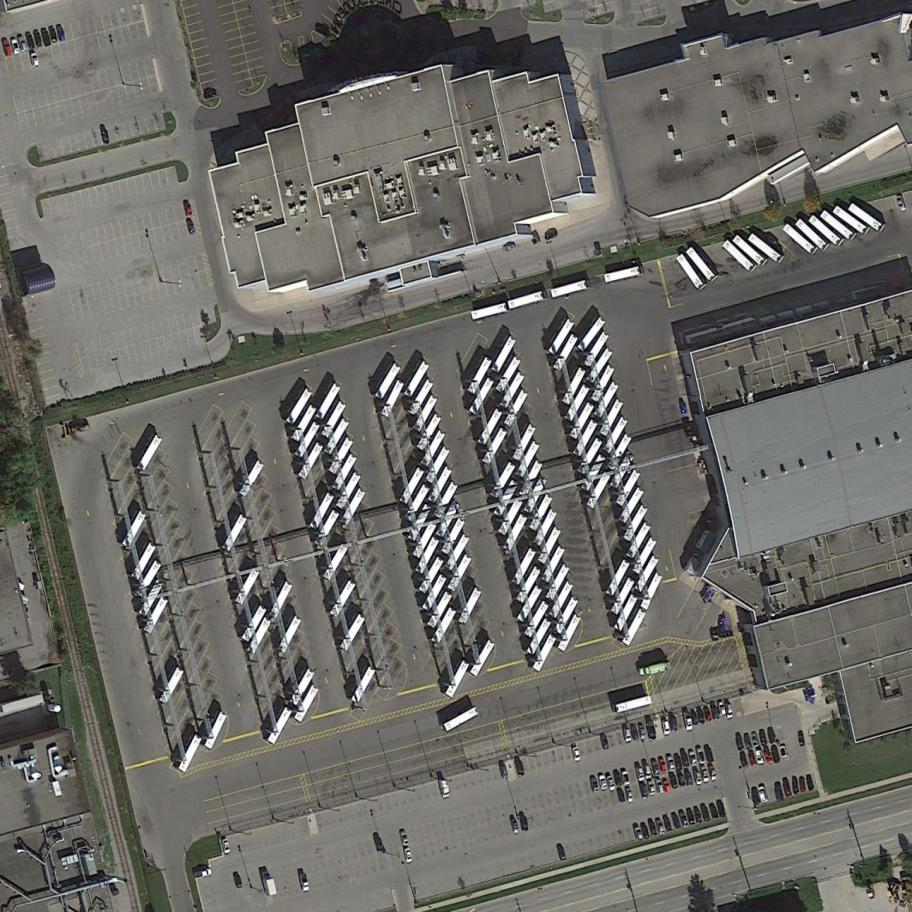large-vehicle: (684, 245, 718, 283), (746, 231, 784, 264), (616, 485, 646, 526), (722, 238, 757, 273), (807, 213, 843, 247), (731, 233, 767, 267), (575, 316, 608, 353), (847, 202, 886, 233), (334, 471, 364, 511), (531, 507, 560, 548), (297, 440, 326, 481), (819, 209, 856, 241), (585, 346, 615, 385), (522, 599, 552, 638), (237, 460, 267, 499), (494, 356, 524, 395), (275, 615, 304, 655), (584, 470, 613, 510), (135, 559, 164, 599), (221, 513, 250, 553), (407, 378, 436, 418), (411, 394, 440, 434), (417, 556, 446, 596), (416, 413, 445, 453), (620, 608, 649, 648), (794, 218, 829, 251), (782, 222, 817, 255), (411, 520, 439, 561), (675, 254, 706, 291), (832, 205, 870, 235), (426, 590, 455, 629), (593, 381, 622, 420), (350, 665, 379, 704), (288, 667, 317, 706), (339, 613, 368, 652), (515, 585, 544, 624), (631, 536, 660, 575), (510, 548, 539, 587), (576, 437, 605, 476), (323, 417, 352, 456), (398, 467, 427, 506), (515, 439, 543, 479), (545, 562, 573, 602), (625, 521, 653, 561), (320, 400, 348, 440), (294, 420, 322, 460), (130, 542, 158, 582), (424, 445, 452, 485), (308, 491, 336, 531), (477, 407, 505, 447), (457, 586, 484, 627), (380, 378, 407, 419), (493, 479, 520, 520), (583, 330, 612, 368), (547, 318, 576, 356), (498, 371, 527, 409), (621, 504, 650, 542), (285, 389, 314, 427), (468, 378, 497, 416), (553, 333, 581, 372), (442, 706, 481, 734), (266, 706, 294, 745), (293, 685, 321, 724), (431, 606, 459, 645), (572, 419, 600, 458), (634, 554, 662, 593), (515, 565, 543, 604), (615, 468, 643, 507), (605, 433, 633, 472), (422, 573, 450, 612), (447, 554, 475, 593), (403, 360, 431, 399), (375, 362, 403, 401), (327, 437, 355, 476), (291, 404, 319, 443), (241, 603, 269, 642), (138, 579, 166, 618), (313, 509, 341, 548), (497, 498, 525, 537), (329, 579, 357, 618), (322, 543, 350, 582), (404, 483, 432, 522), (340, 487, 368, 526), (561, 366, 588, 406), (548, 580, 575, 620), (605, 558, 632, 598), (541, 544, 568, 584), (536, 526, 563, 566), (528, 493, 555, 533), (502, 513, 529, 553), (467, 356, 494, 396), (177, 734, 204, 774), (440, 516, 467, 556), (613, 593, 640, 633), (204, 710, 230, 751), (331, 454, 359, 492), (143, 596, 171, 634), (444, 534, 472, 572), (489, 461, 517, 499), (136, 434, 164, 472), (569, 401, 596, 440), (565, 384, 592, 423), (610, 577, 637, 616), (518, 460, 545, 499), (491, 335, 518, 374), (433, 481, 460, 520), (553, 596, 580, 635), (590, 364, 616, 404), (247, 617, 273, 657), (503, 389, 530, 427), (469, 639, 496, 677), (609, 451, 636, 489), (581, 454, 608, 492), (158, 667, 185, 705), (234, 568, 261, 606), (420, 430, 447, 468), (531, 634, 558, 672), (512, 423, 538, 462), (445, 659, 471, 698), (599, 398, 625, 437), (523, 476, 549, 515), (122, 510, 148, 549), (415, 536, 441, 575), (268, 581, 294, 620), (557, 613, 583, 652), (408, 503, 433, 543), (603, 416, 629, 454), (526, 618, 552, 656), (316, 382, 342, 420), (428, 467, 454, 505), (483, 427, 509, 465), (640, 572, 664, 610), (612, 693, 655, 714), (435, 504, 460, 538), (551, 279, 590, 300), (507, 290, 545, 310), (471, 302, 508, 322), (604, 265, 644, 283)
small-vehicle: (683, 551, 704, 578), (260, 869, 279, 898), (39, 26, 54, 49), (373, 830, 387, 854), (191, 866, 213, 881), (1, 37, 15, 60), (299, 870, 312, 894), (438, 777, 451, 800), (699, 800, 712, 823), (8, 36, 22, 57), (498, 759, 511, 781), (781, 777, 793, 800), (683, 708, 694, 733), (17, 34, 30, 54), (762, 746, 775, 766), (678, 809, 690, 830), (514, 755, 526, 776), (707, 761, 719, 782), (55, 23, 67, 44), (639, 822, 652, 841), (510, 813, 521, 835), (696, 704, 707, 726), (647, 719, 658, 741), (773, 781, 784, 803), (25, 31, 37, 51), (757, 785, 769, 805), (896, 194, 908, 213), (620, 769, 632, 788), (605, 774, 617, 793), (183, 200, 195, 219), (32, 29, 44, 48), (29, 51, 42, 68), (613, 768, 624, 788), (637, 720, 648, 740), (48, 25, 59, 45), (692, 805, 703, 825), (750, 786, 761, 806), (400, 828, 411, 848), (668, 772, 680, 790), (670, 812, 682, 830), (695, 747, 707, 765), (704, 744, 715, 763), (639, 782, 650, 801), (557, 843, 568, 862), (600, 732, 611, 751), (685, 806, 696, 825), (716, 799, 727, 818), (747, 749, 758, 768), (770, 745, 781, 764), (629, 724, 641, 741), (711, 701, 721, 721), (725, 700, 735, 720), (735, 731, 745, 751), (655, 777, 666, 795), (648, 819, 659, 837), (700, 766, 711, 784), (233, 871, 244, 889), (708, 802, 719, 820), (757, 728, 768, 746), (805, 773, 816, 791), (543, 228, 559, 240), (185, 219, 197, 235), (636, 764, 646, 783), (690, 708, 700, 727), (739, 750, 749, 769), (404, 846, 414, 865), (655, 819, 666, 836), (625, 786, 635, 804), (644, 762, 654, 780), (685, 770, 695, 788), (663, 814, 673, 832), (598, 773, 608, 791), (572, 745, 582, 763), (743, 732, 753, 750), (751, 730, 761, 748), (791, 776, 800, 796), (678, 400, 689, 416), (670, 714, 679, 733), (100, 126, 109, 145), (767, 726, 776, 745), (651, 759, 661, 776), (673, 753, 683, 770), (590, 776, 600, 793), (222, 837, 232, 854), (755, 748, 765, 765), (520, 814, 529, 832), (662, 777, 672, 793), (635, 826, 645, 842), (681, 751, 690, 768), (623, 726, 632, 743), (203, 89, 218, 99), (779, 744, 789, 759), (617, 787, 626, 803), (659, 758, 668, 774), (689, 751, 698, 767), (648, 780, 656, 797), (668, 755, 676, 772), (695, 768, 703, 785), (718, 701, 726, 718), (799, 776, 807, 793), (677, 771, 686, 786), (704, 706, 712, 722), (797, 731, 805, 747), (502, 244, 516, 252), (663, 719, 670, 735)
